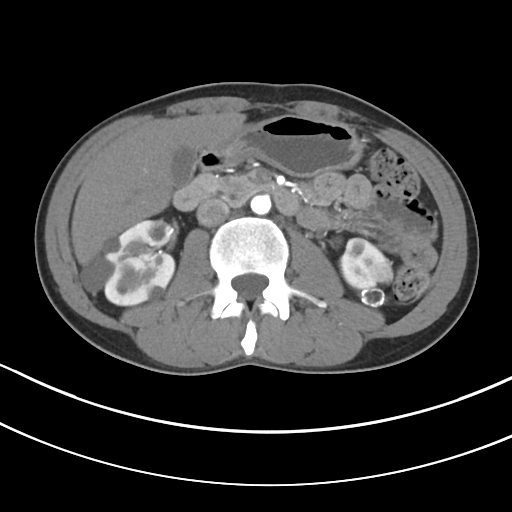Lesion: (371, 258, 394, 288)
